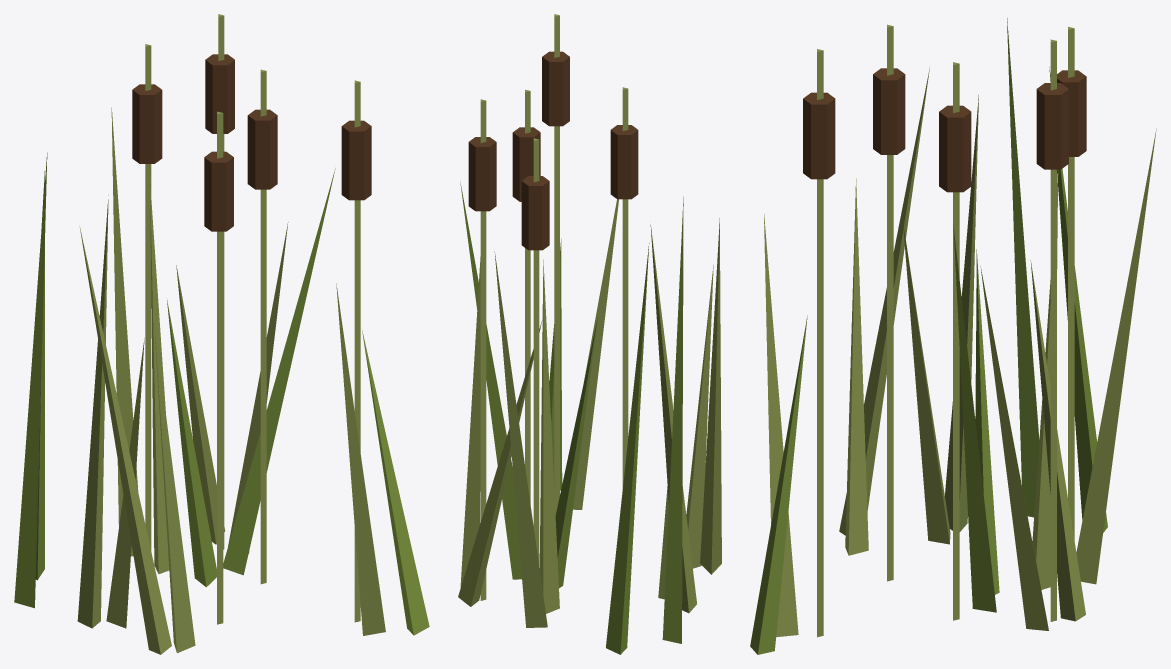
The model's file is kaveldun_1.glb.
3 views of the same model, side by side, from view 1: azimuth 30°, elevation 25°; view 2: azimuth 150°, elevation 25°; view 3: azimuth 270°, elevation 25° (orthographic). The views are drawn at different scales.
Visible parts, largest first — view 1: kaveldun_1; view 2: kaveldun_1; view 3: kaveldun_1.
Boxes of the visible parts, x1=… form: kaveldun_1: x1=14, y1=14, x2=429, y2=654; kaveldun_1: x1=458, y1=14, x2=721, y2=654; kaveldun_1: x1=750, y1=18, x2=1156, y2=654.
Size of the model in its own units: 1.2 by 2.19 by 1.38.
